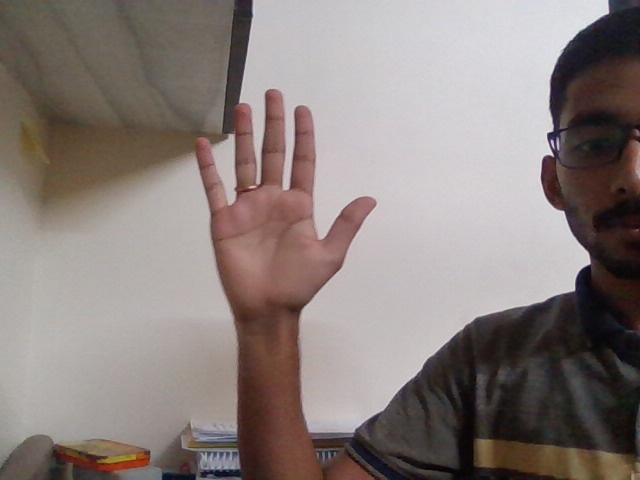Hello: (161, 74, 387, 344)
